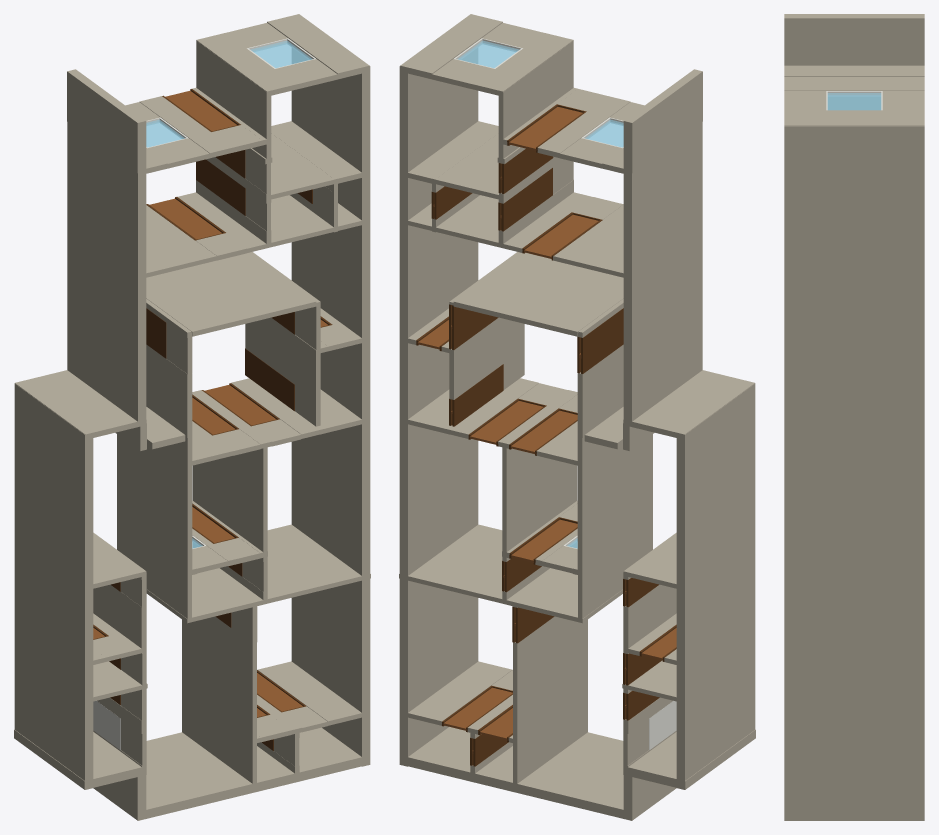
Rendered from gem-bff_layout.obj.
The picture shows the model from 3 angles, left to right: view 1: azimuth 30°, elevation 25°; view 2: azimuth 150°, elevation 25°; view 3: azimuth 270°, elevation 25°; orthographic projection.
Bounding box in the file's own units: 281 × 656 × 120.
